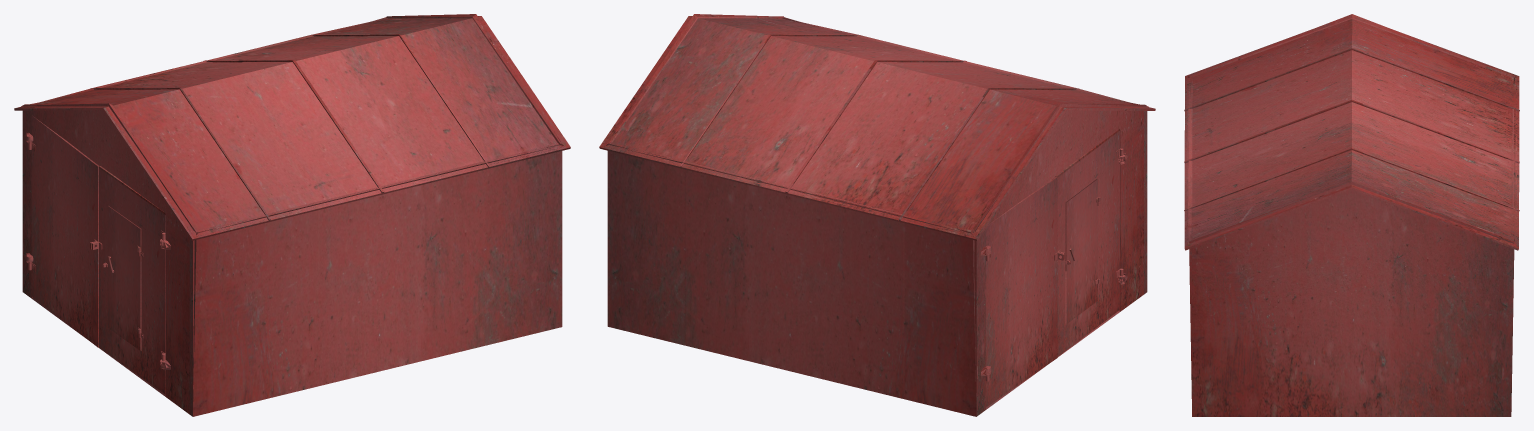
Rendered from Garazh_met_1.fbx.
The picture shows the model from 3 angles, left to right: view 1: azimuth 30°, elevation 25°; view 2: azimuth 150°, elevation 25°; view 3: azimuth 270°, elevation 25°; orthographic projection. The views are drawn at different scales.
Parts seen in each view (by area): view 1: Plane.005, Cube.013, Plane.018, Cylinder.005; view 2: Plane.005, Cube.013, Plane.018, Cylinder.005; view 3: Plane.005.
Part boxes in pixels (x1,y1,x2,y2): Plane.005: [14, 14, 570, 416]; Cube.013: [28, 115, 98, 347]; Plane.018: [92, 166, 165, 394]; Cylinder.005: [103, 206, 140, 350]; Plane.005: [599, 14, 1155, 416]; Cube.013: [985, 176, 1064, 407]; Plane.018: [1055, 129, 1123, 356]; Cylinder.005: [1066, 179, 1100, 324]; Plane.005: [1184, 14, 1519, 416].
Size of the model in its own units: 260 by 163 by 210.
